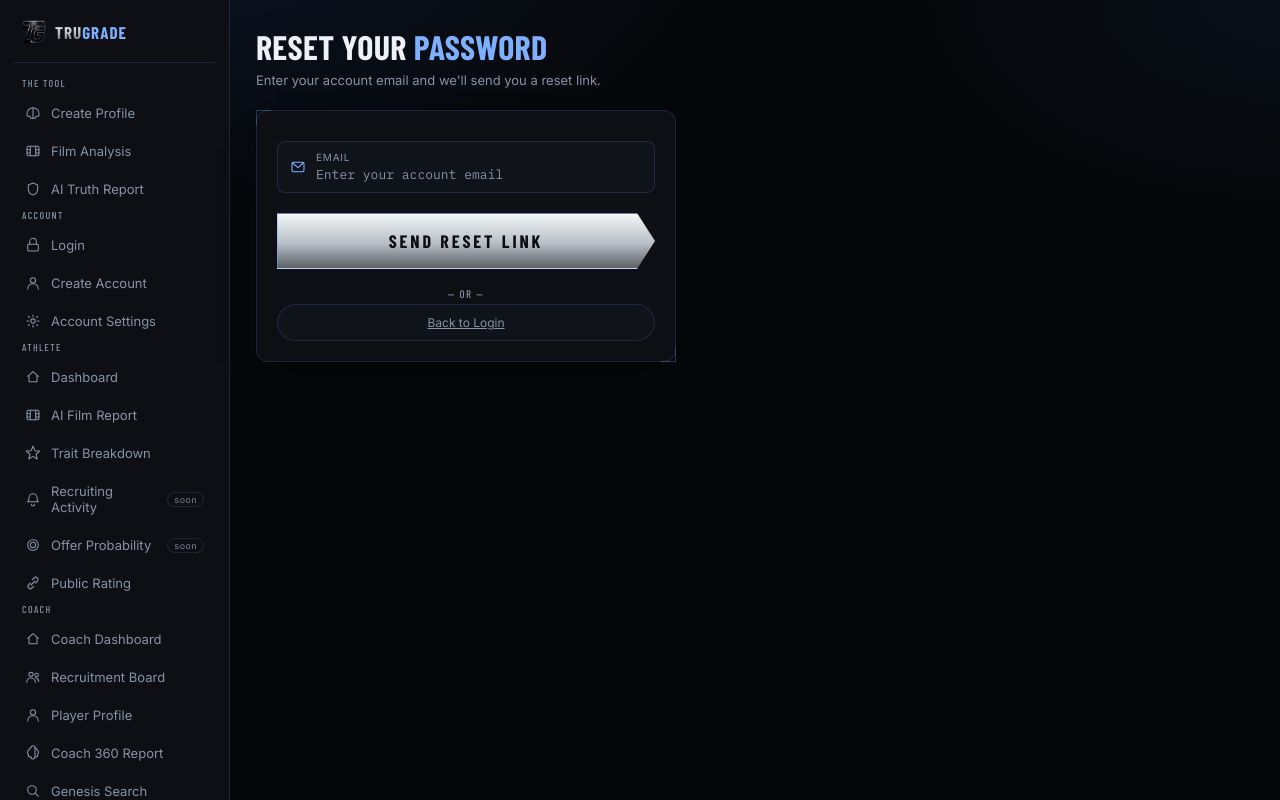
it: Forgot Password route › shows an honest message when email delivery isn't configured in production
Type "coach@example.com" into the field labelled "Email" at {"x": 479, "y": 174}, box 316,166 -> 642,183
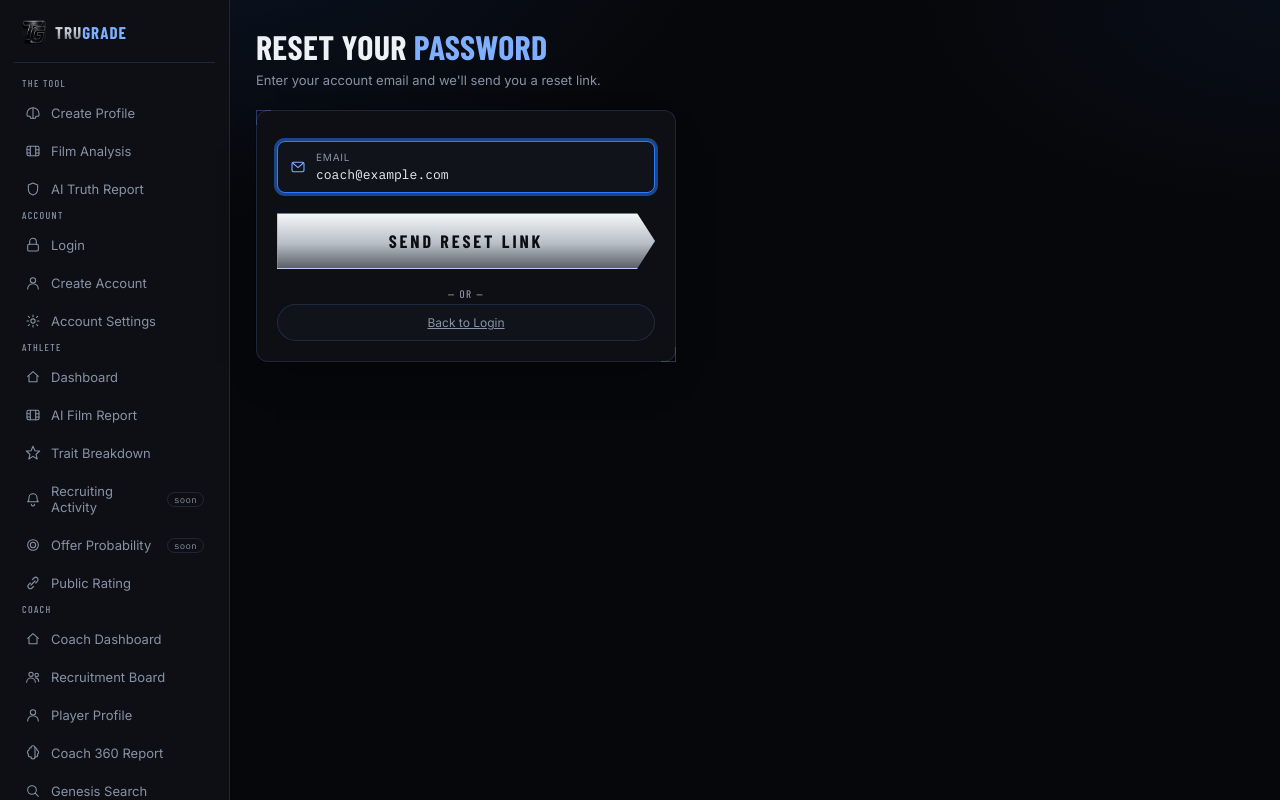
Click the button "Send Reset Link" at {"x": 466, "y": 241}, box 277,213 -> 655,269
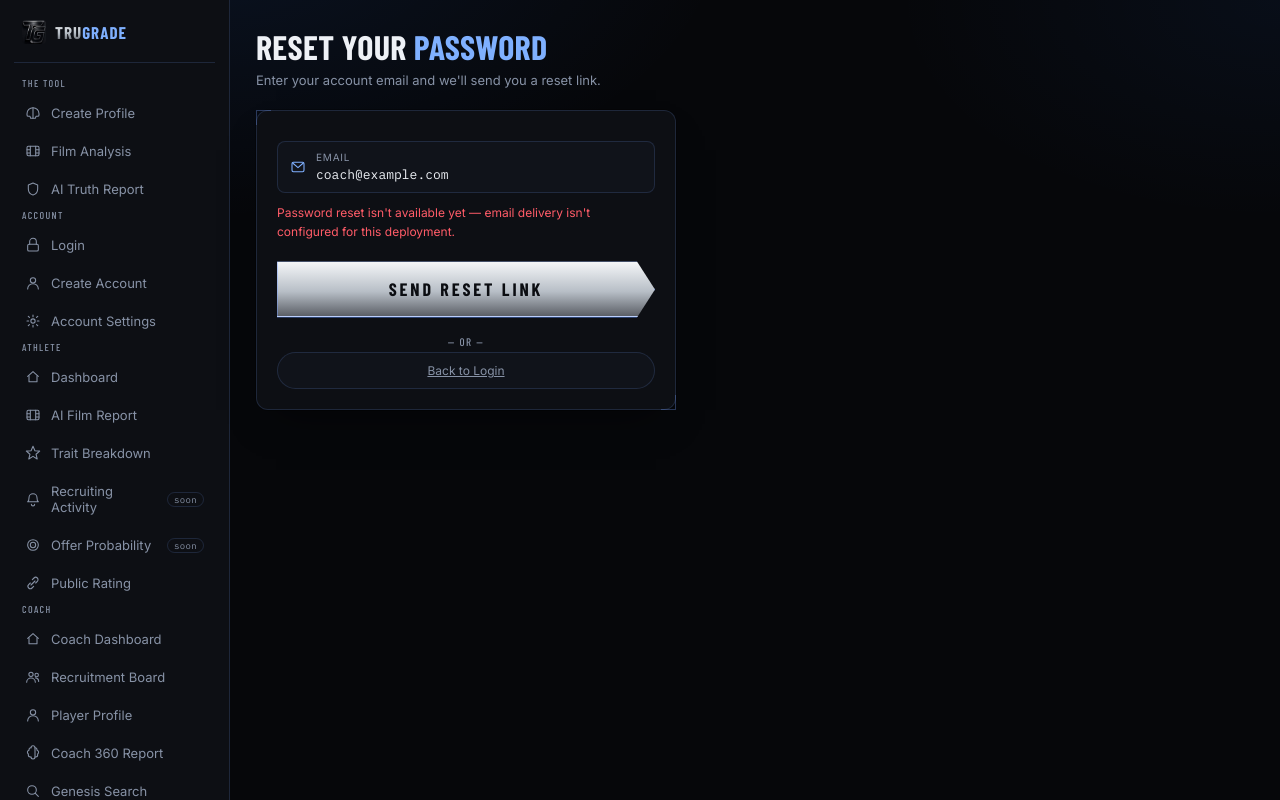
Expected: the message shows "isn't available yet", 277,205 -> 590,239
